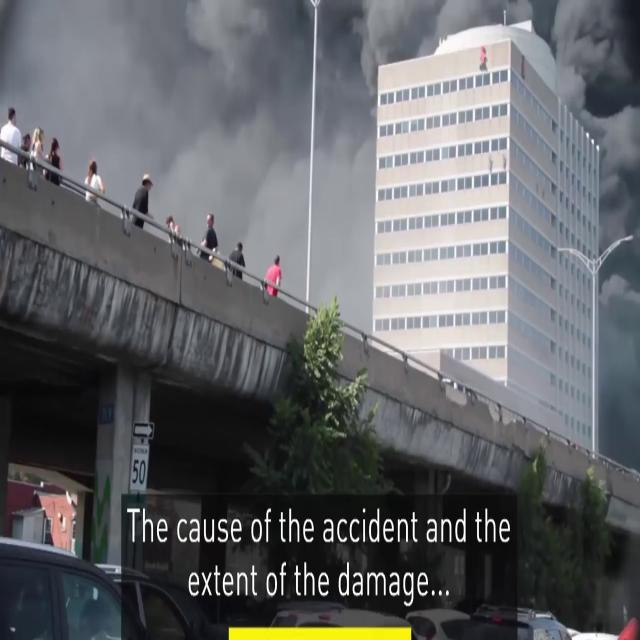Smoke: (96, 0, 377, 297), (558, 0, 640, 460)
